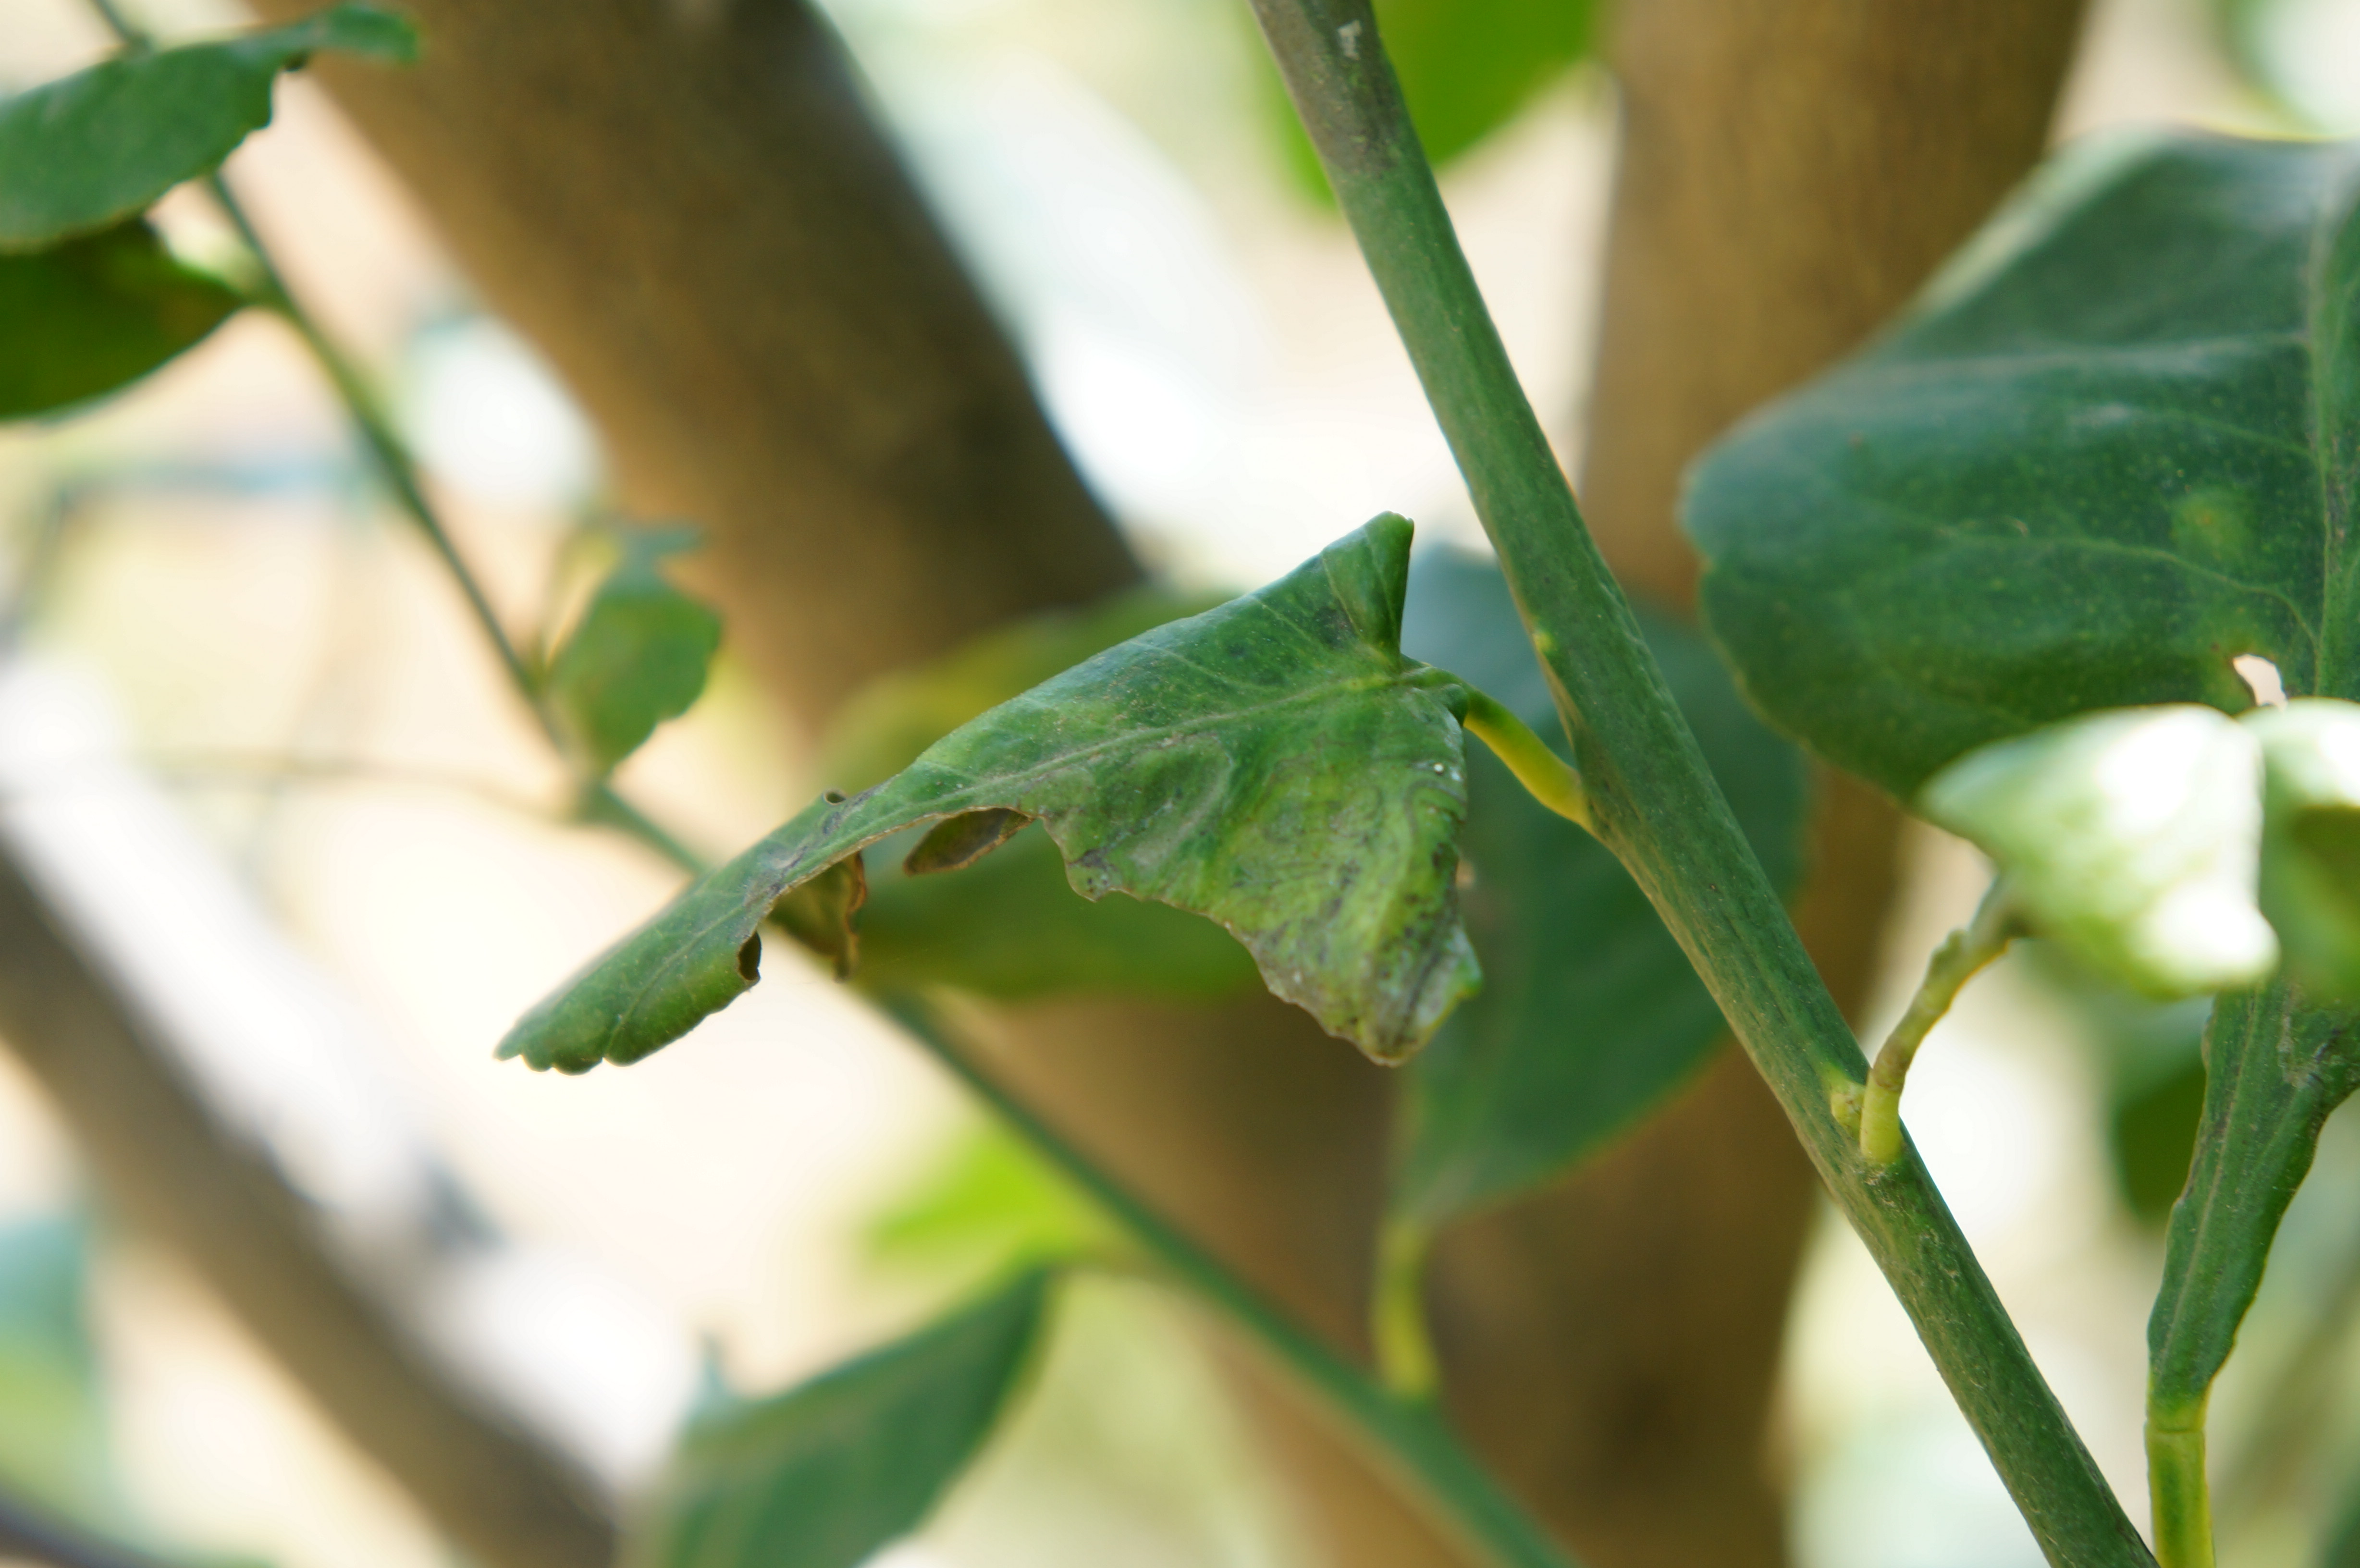damage: (437, 502, 1501, 1160)
